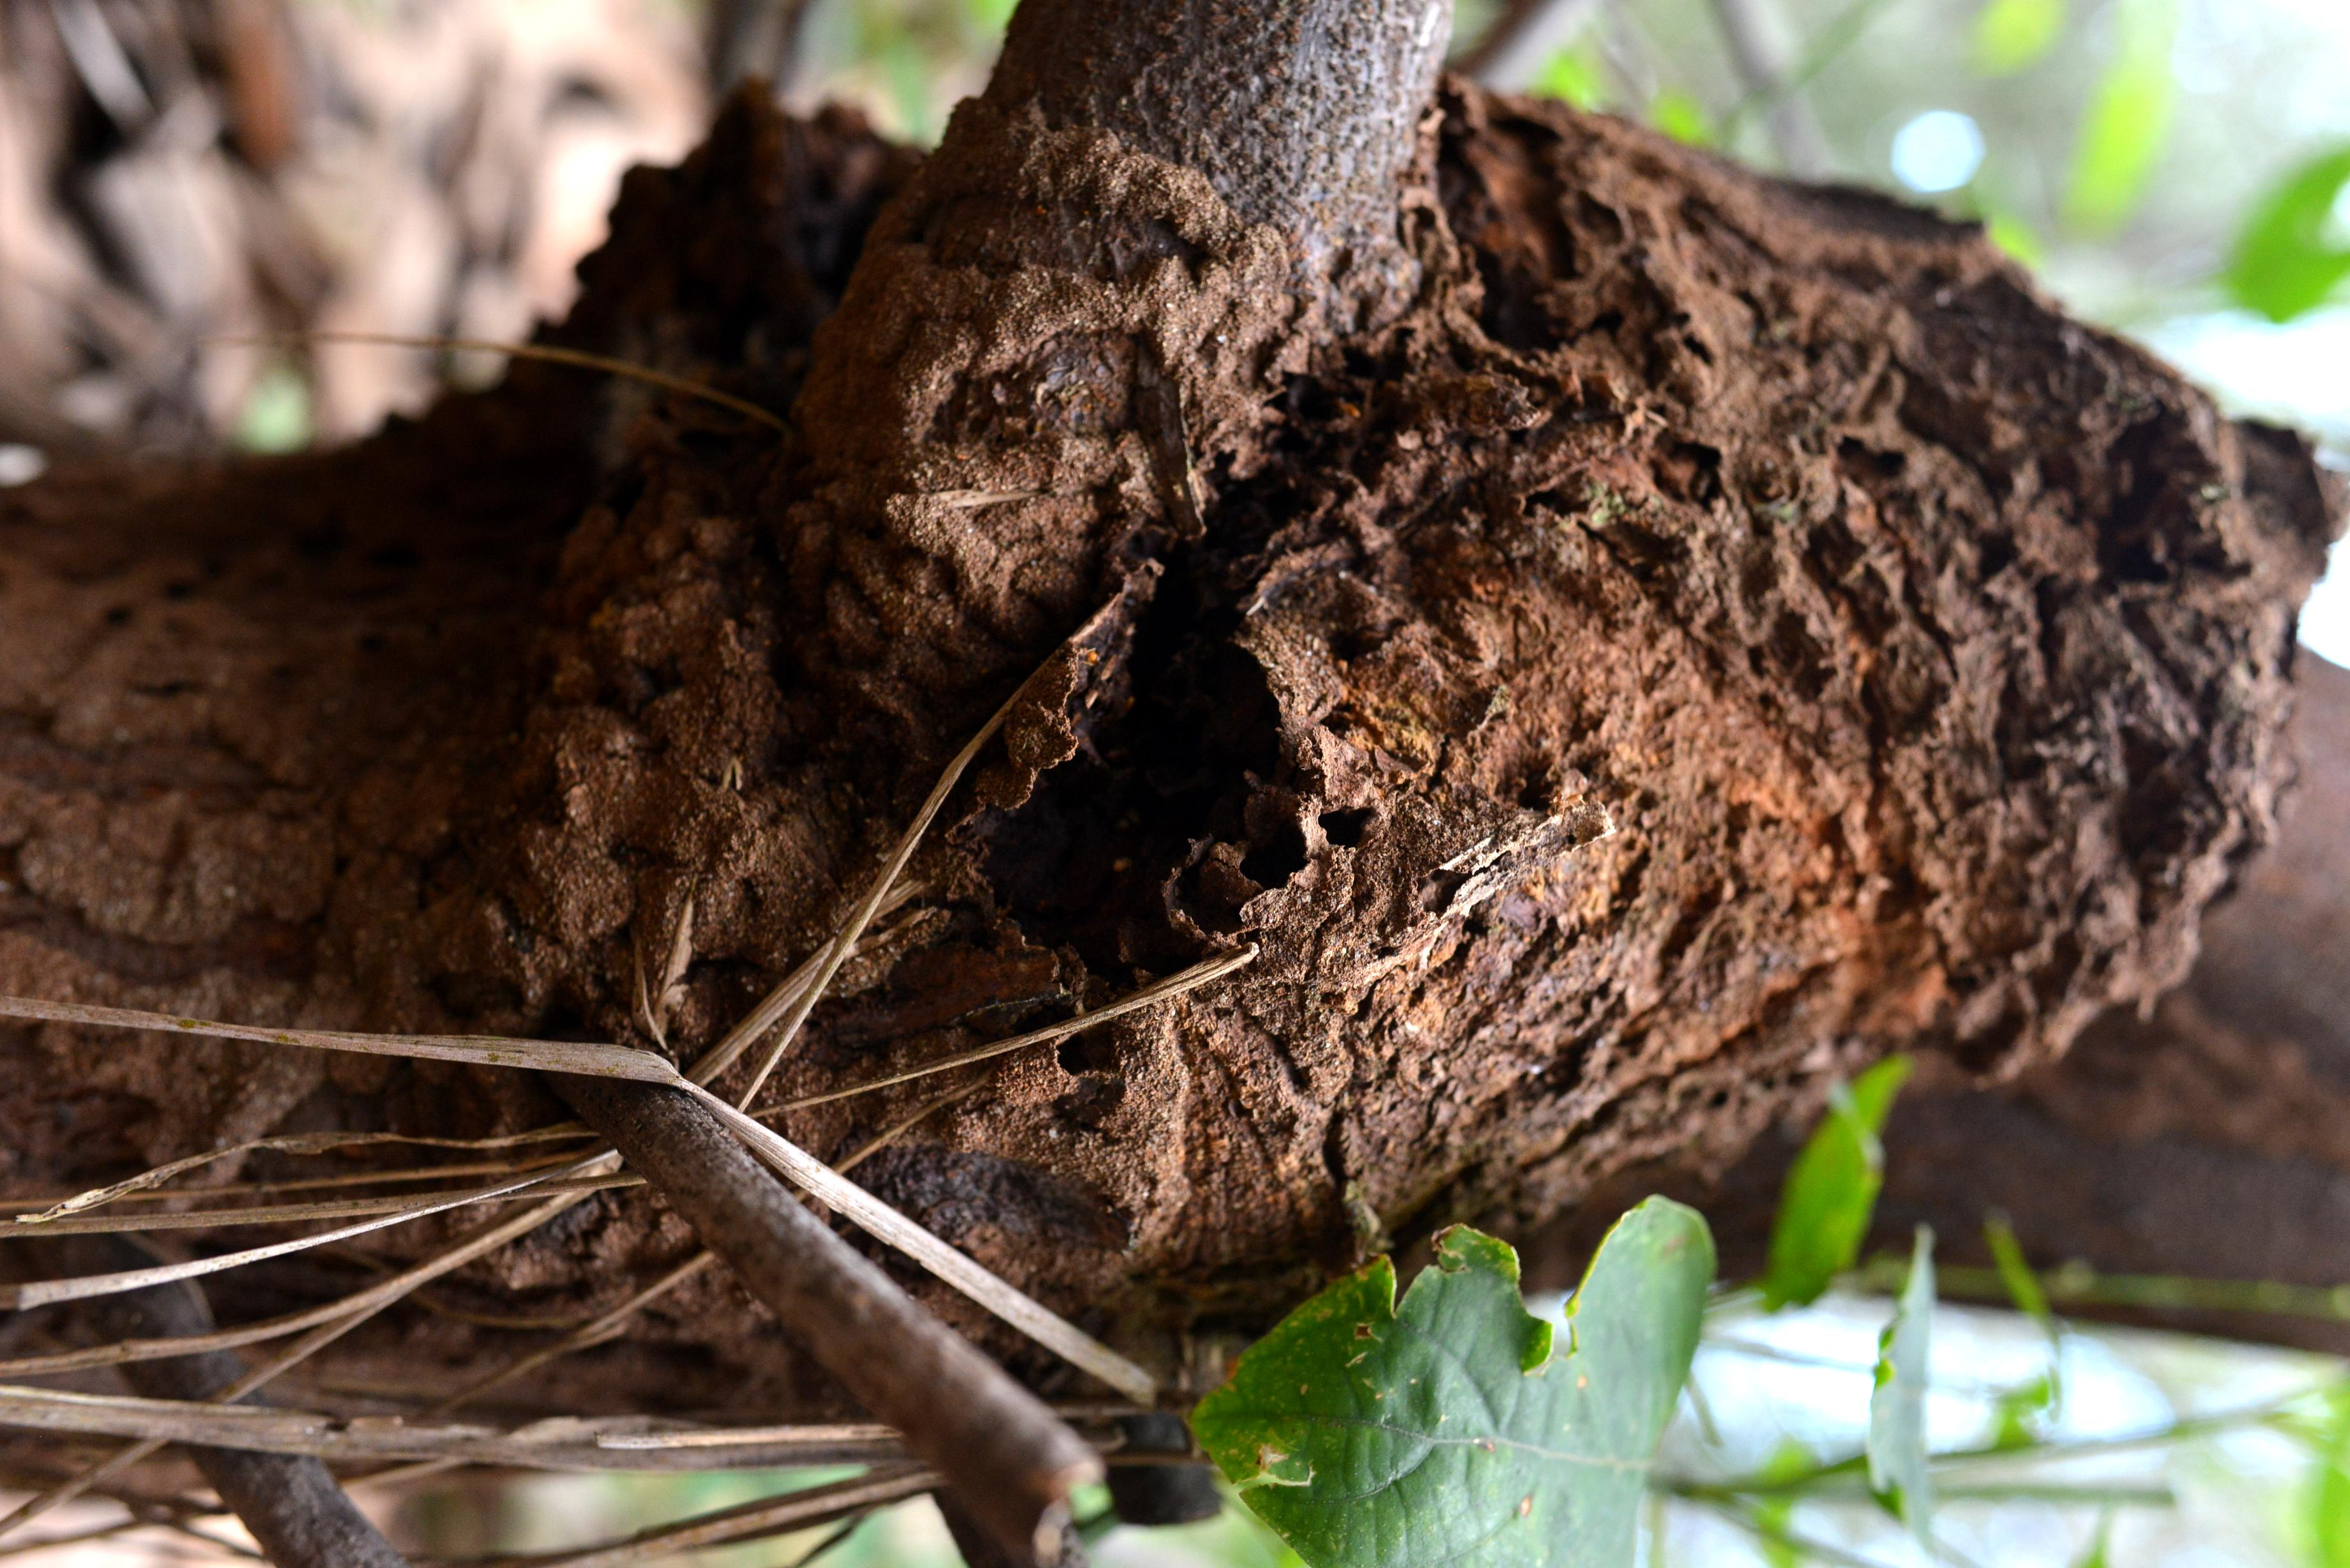Termite - Nest: (313, 115, 2324, 1237)
